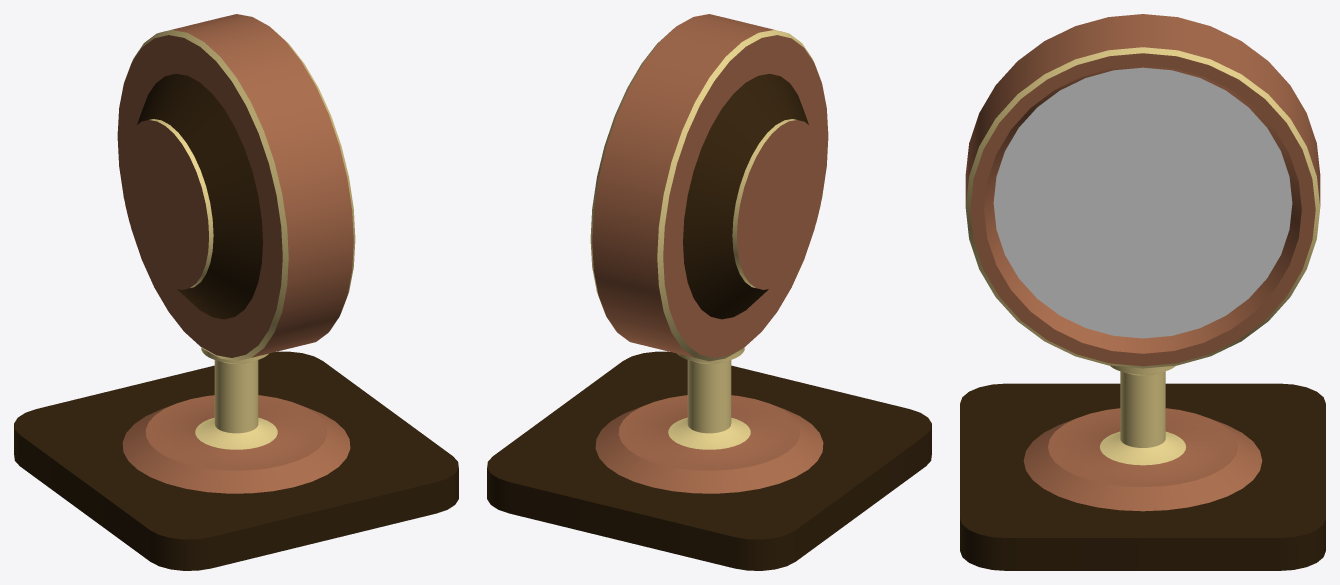
File: mirror.fbx
3 renders of one model, left to right at view 1: azimuth 30°, elevation 25°; view 2: azimuth 150°, elevation 25°; view 3: azimuth 270°, elevation 25°, orthographic. The views are drawn at different scales.
Visible parts, largest first — view 1: Mirror; view 2: Mirror; view 3: Mirror.
Part boxes in pixels (bbox=[...]): Mirror: bbox=[14, 14, 458, 570]; Mirror: bbox=[487, 14, 931, 570]; Mirror: bbox=[960, 14, 1325, 570].
Bounding box in the file's own units: 6.07 × 6.07 × 8.48.
